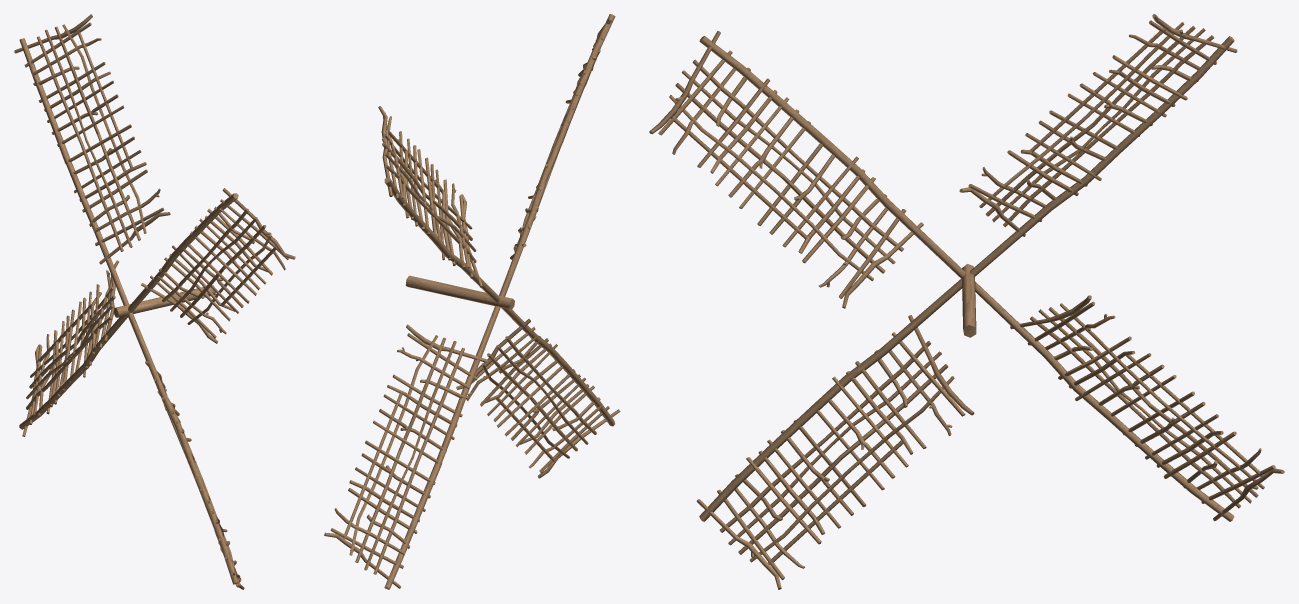
The model's file is windmill.obj.
3 renders of one model, left to right at view 1: azimuth 30°, elevation 25°; view 2: azimuth 150°, elevation 25°; view 3: azimuth 270°, elevation 25°, orthographic. The views are drawn at different scales.
Visible parts, largest first — view 1: windmill_head; view 2: windmill_head; view 3: windmill_head.
Boxes of the visible parts, x1,y1,x2,y2 form: windmill_head: [14, 14, 295, 589]; windmill_head: [324, 14, 620, 589]; windmill_head: [649, 14, 1284, 589].
Size of the model in its own units: 7.91 by 35.89 by 35.89.
Materials: 1 (1 with a texture image).
